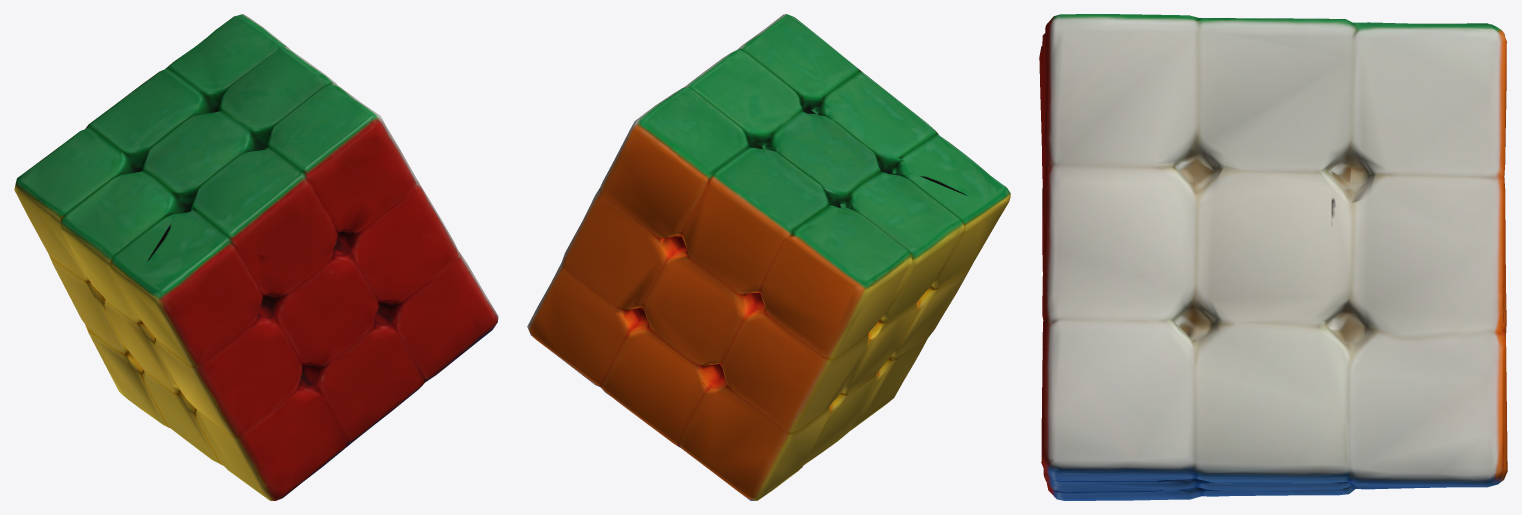
3 views of the same model, side by side, from view 1: azimuth 30°, elevation 25°; view 2: azimuth 150°, elevation 25°; view 3: azimuth 270°, elevation 25° (orthographic). The views are drawn at different scales.
Parts seen in each view (by area): view 1: textured.093; view 2: textured.093; view 3: textured.093.
Boxes of the visible parts, x1,y1,x2,y2 form: textured.093: (14,14,498,500); textured.093: (527,14,1010,500); textured.093: (1039,14,1507,500).
Bounding box in the file's own units: 0.0758 × 0.0761 × 0.058.
1 material, 1 textured.
